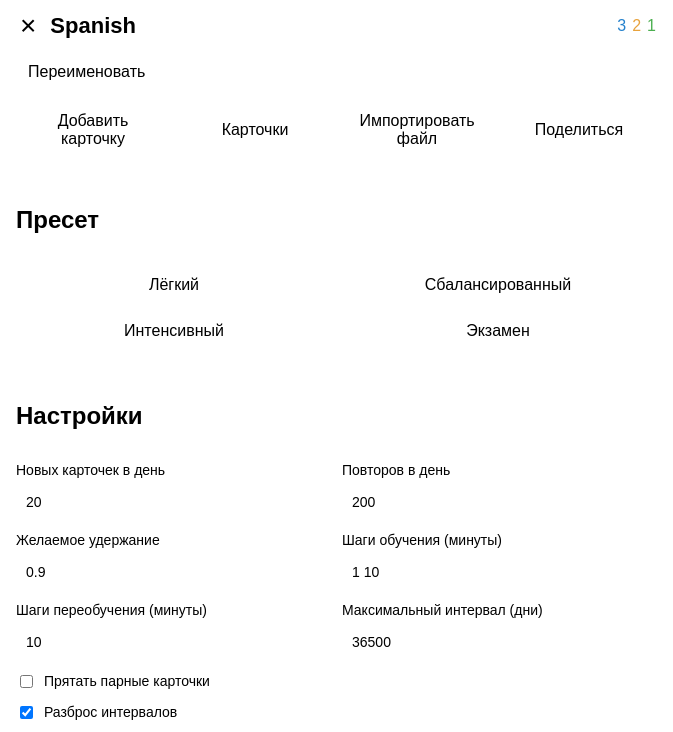
Test: deck management › explains how to share an archived deck
This screenshot has width=673, height=732.
Click the button "Поделиться": (579, 130) [502,102,656,158]
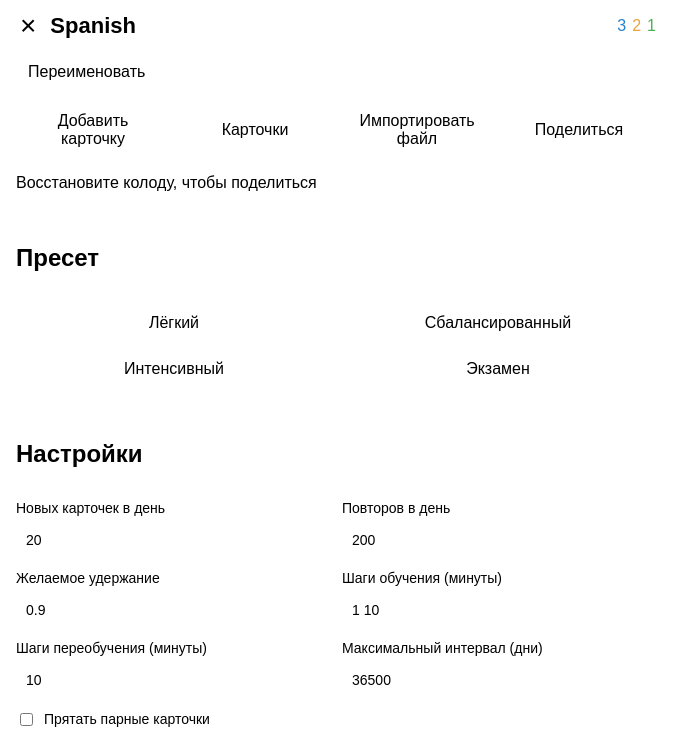
Check: the message reads "Восстановите колоду, чтобы поделиться", box [16,174,317,191]
